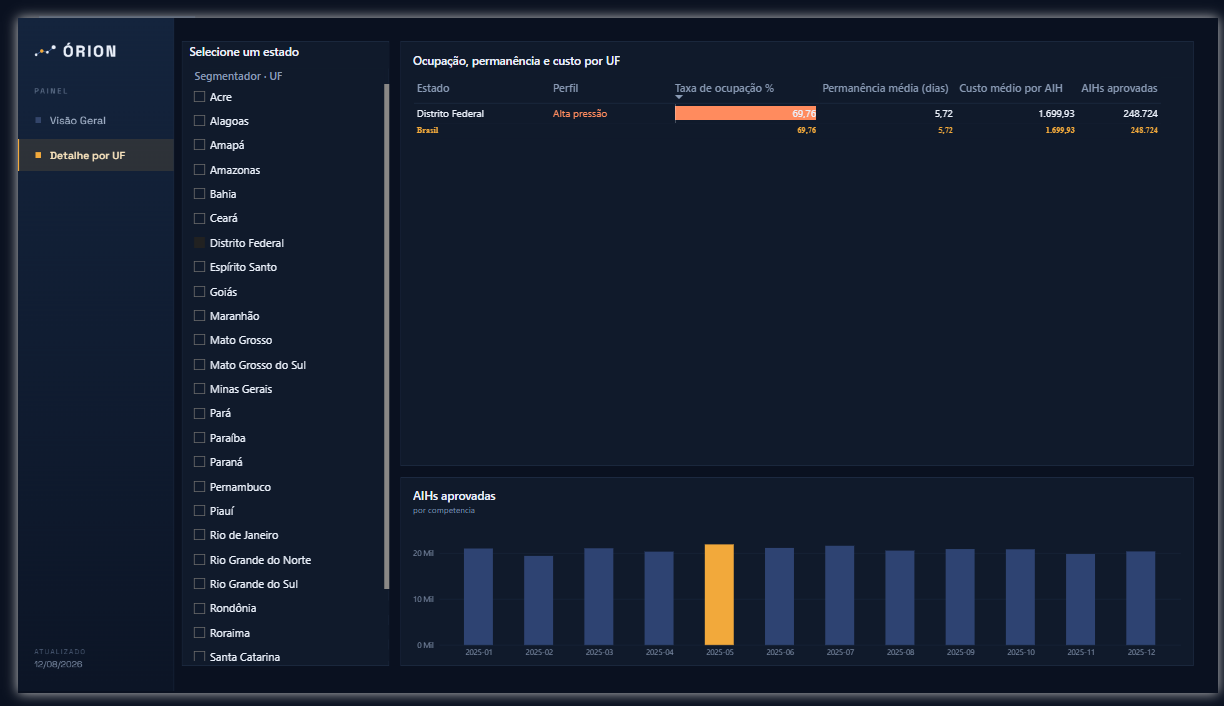

This screenshot's page, from the dashboard's own definition file:
{"tool":"powerbi","page":{"name":"Detalhe por UF","canvas":[1920,1080],"ordinal":1},"visuals":[{"type":"tableEx","title":"Ocupação, permanência e custo por UF","fields":{"Values":["orion_powerbi.uf_nome","orion_powerbi.cluster_nome","orion_powerbi.Taxa de ocupação %","orion_powerbi.Permanência média","orion_powerbi.Custo médio por AIH","orion_powerbi.AIHs aprovadas"]},"box":[616,40,1264,672],"z":0},{"type":"clusteredColumnChart","fields":{"Category":["orion_powerbi.competencia"],"Y":["orion_powerbi.AIHs aprovadas"]},"box":[616,736,1260,308],"z":3000},{"type":"slicer","title":"Selecione um estado","fields":{"Values":["orion_powerbi.uf_nome"]},"box":[274,40,320,988],"z":4000}]}

Visuals, with their boxes on the page's 1920x1080 design canvas (x1, y1, x2, y2). These are canvas units, not pixel positions in the 1224x706 screenshot, which may show the page scaled, cropped or inside an application window:
"Ocupação, permanência e custo por UF" tableEx: box(616, 40, 1880, 712)
clusteredColumnChart - orion_powerbi.competencia x orion_powerbi.AIHs aprovadas: box(616, 736, 1876, 1044)
"Selecione um estado" slicer: box(274, 40, 594, 1028)
